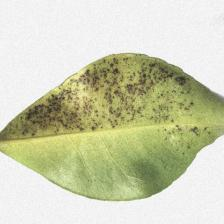canker: (43, 77, 156, 128)
